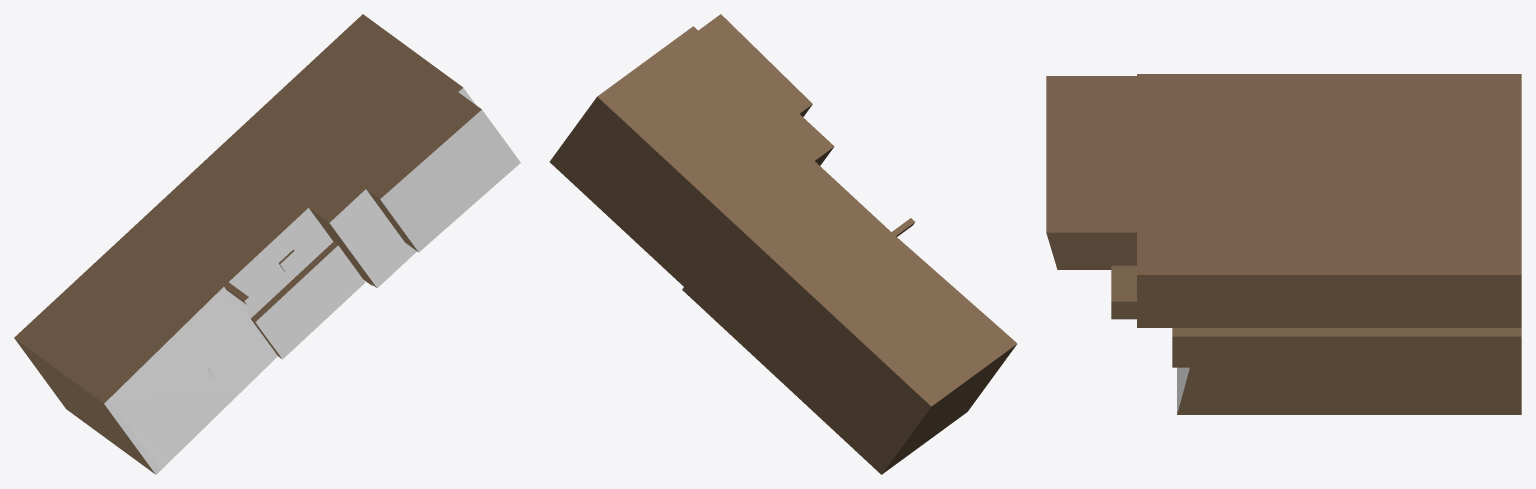
3 views of the same model, side by side, from view 1: azimuth 30°, elevation 25°; view 2: azimuth 150°, elevation 25°; view 3: azimuth 270°, elevation 25° (orthographic). The views are drawn at different scales.
Visible parts, largest first — view 1: City_PC-25247; view 2: City_PC-25247; view 3: City_PC-25247.
Part boxes in pixels (bbox=[...]): City_PC-25247: bbox=[14, 14, 520, 474]; City_PC-25247: bbox=[549, 14, 1017, 474]; City_PC-25247: bbox=[1046, 74, 1521, 414].
Bounding box in the file's own units: 2984 × 2307 × 1608.
